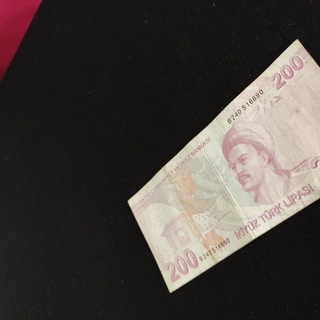200TLBack: (127, 37, 320, 293)
